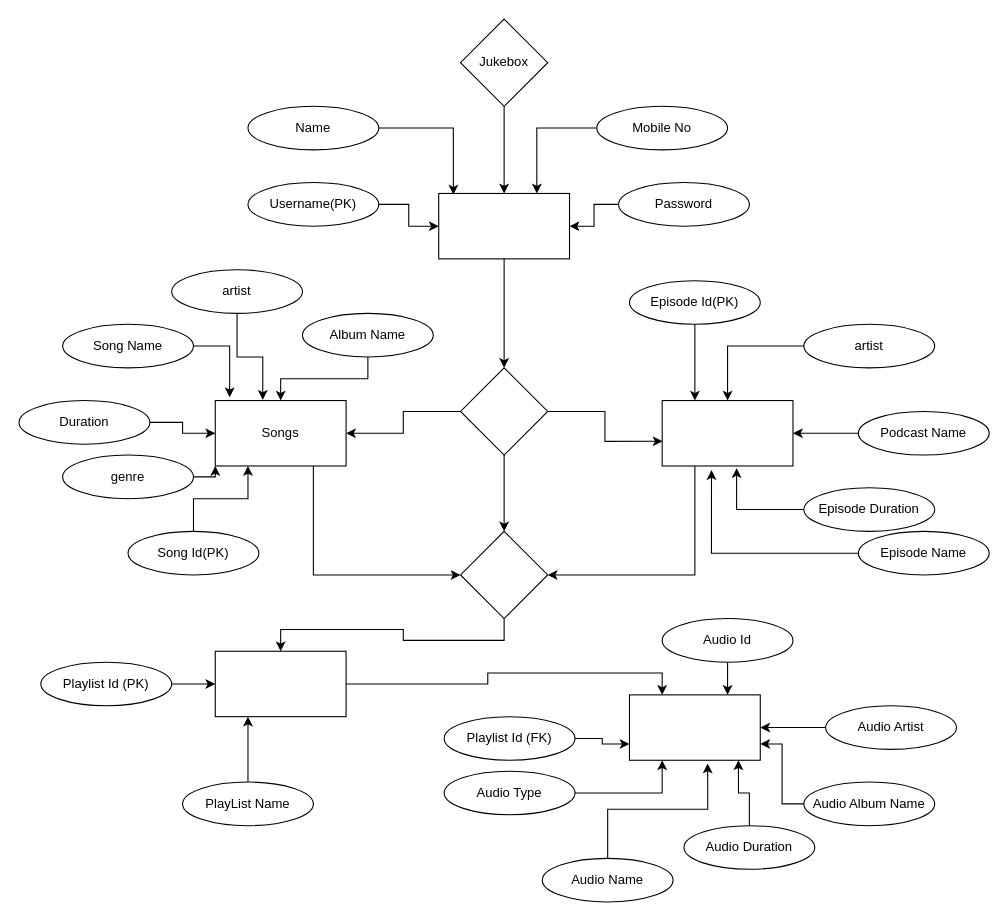
The diagram is 1008 pixels wide and 921 high, and some of its shapes have lost their labels. The shapes that lost their labels are listed below. From the top down, each one's centre as x and y in pixels, then its label:
point 504,225: Authentication
point 503,411: Logged in
point 727,432: Podcasts
point 503,574: PlayLists
point 280,683: Playlist
point 694,727: Playlist Impl
